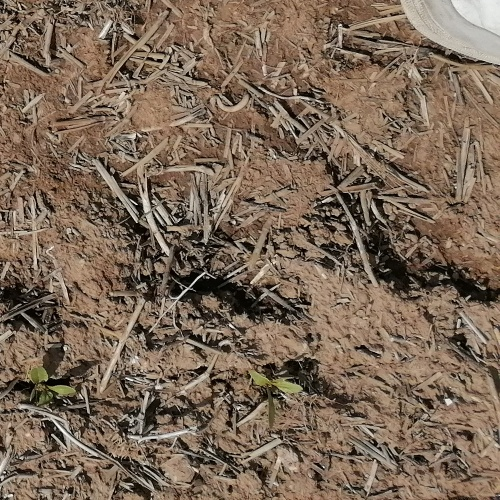beet: (249, 370, 302, 429), (28, 367, 76, 411)
